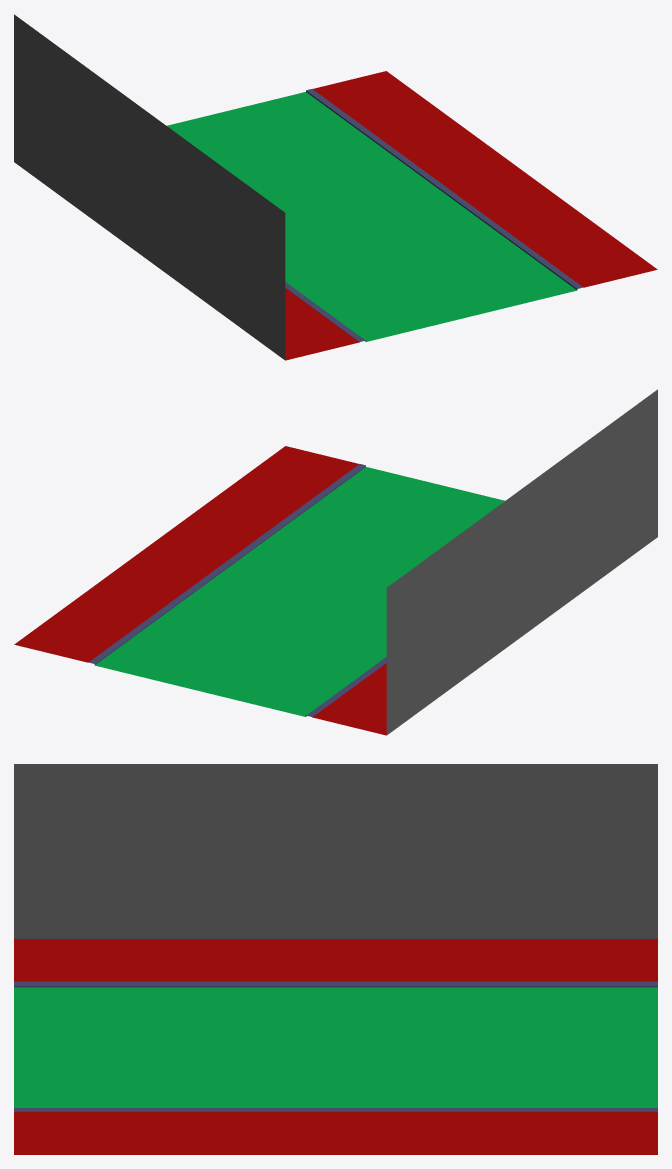
The model's file is SM_BackgroundProp.fbx.
3 views of the same model, one above another, from view 1: azimuth 30°, elevation 25°; view 2: azimuth 150°, elevation 25°; view 3: azimuth 270°, elevation 25° (orthographic). The views are drawn at different scales.
Visible parts, largest first — view 1: BackgroundProp; view 2: BackgroundProp; view 3: BackgroundProp.
Part boxes in pixels (bbox=[...]): BackgroundProp: bbox=[14, 14, 657, 360]; BackgroundProp: bbox=[14, 389, 657, 735]; BackgroundProp: bbox=[14, 764, 657, 1154].
Size of the model in its own units: 1584 by 605 by 2000.
